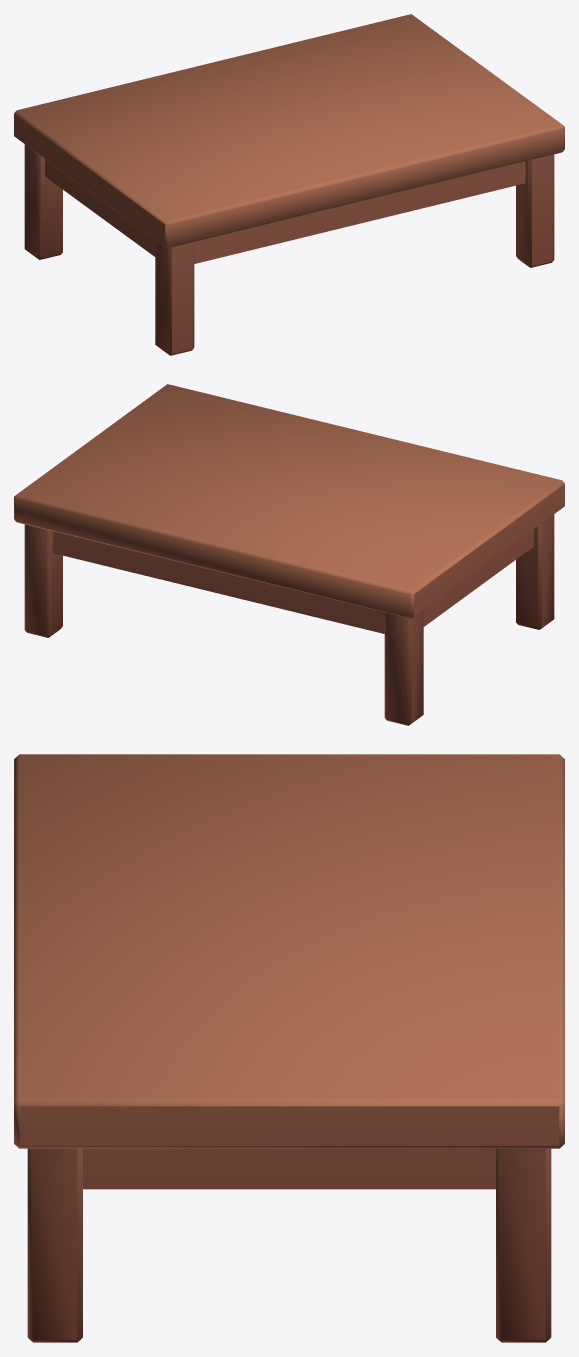
3 views of the same model, one above another, from view 1: azimuth 30°, elevation 25°; view 2: azimuth 150°, elevation 25°; view 3: azimuth 270°, elevation 25° (orthographic). The views are drawn at different scales.
Visible parts, largest first — view 1: table_medium_long; view 2: table_medium_long; view 3: table_medium_long.
Part boxes in pixels (x1,y1,x2,y2): table_medium_long: (14,14,564,355); table_medium_long: (14,384,564,725); table_medium_long: (14,754,564,1342).
Size of the model in its own units: 3 by 1 by 2.
1 material, 1 textured.
